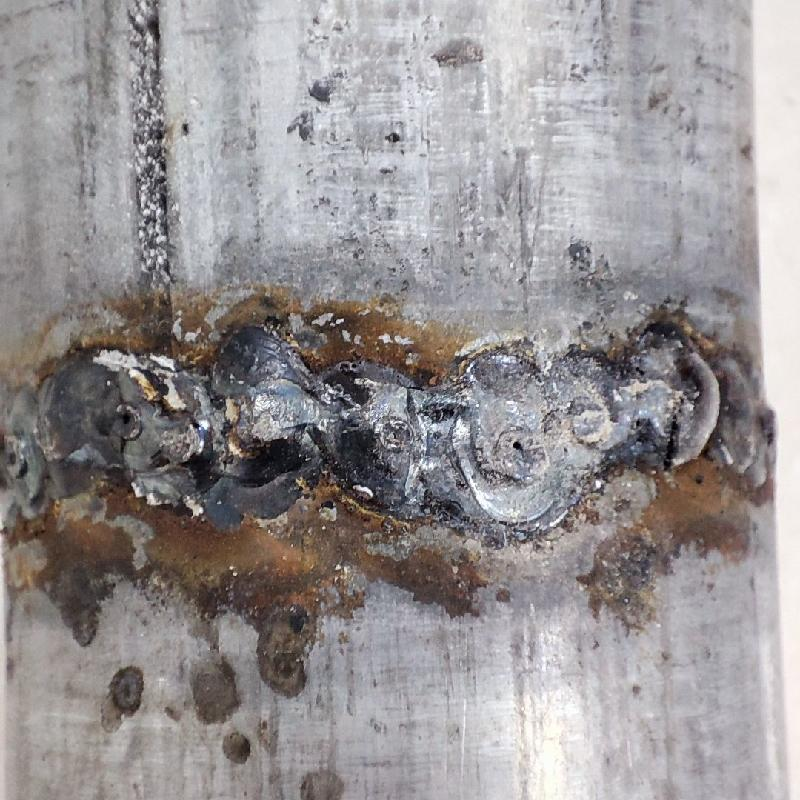Not_fully_soldered: (437, 340, 628, 525)
Surface_pores: (489, 421, 552, 475), (107, 405, 149, 440)
wrong_size: (3, 310, 434, 539), (632, 305, 786, 491)
